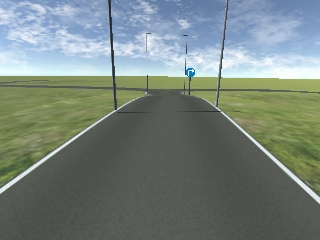right: (185, 67, 196, 78)
